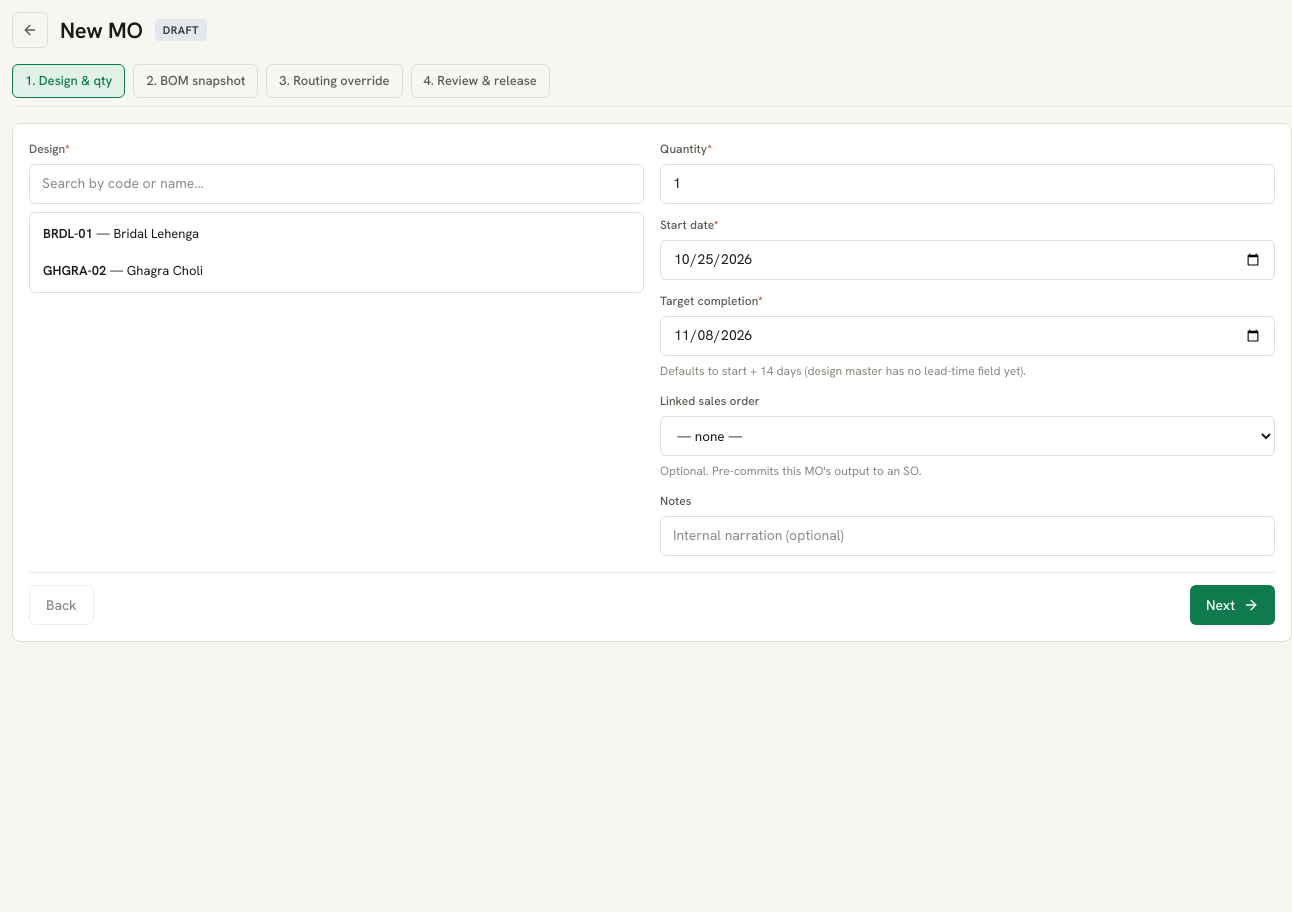
Test: MoCreateWizard — Section 2 (BOM snapshot) › shows the "Insufficient — Raise PR" link on red BOM lines
Click the option "BRDL-01 — Bridal Lehenga" at (68, 233), box [34,216,639,250]
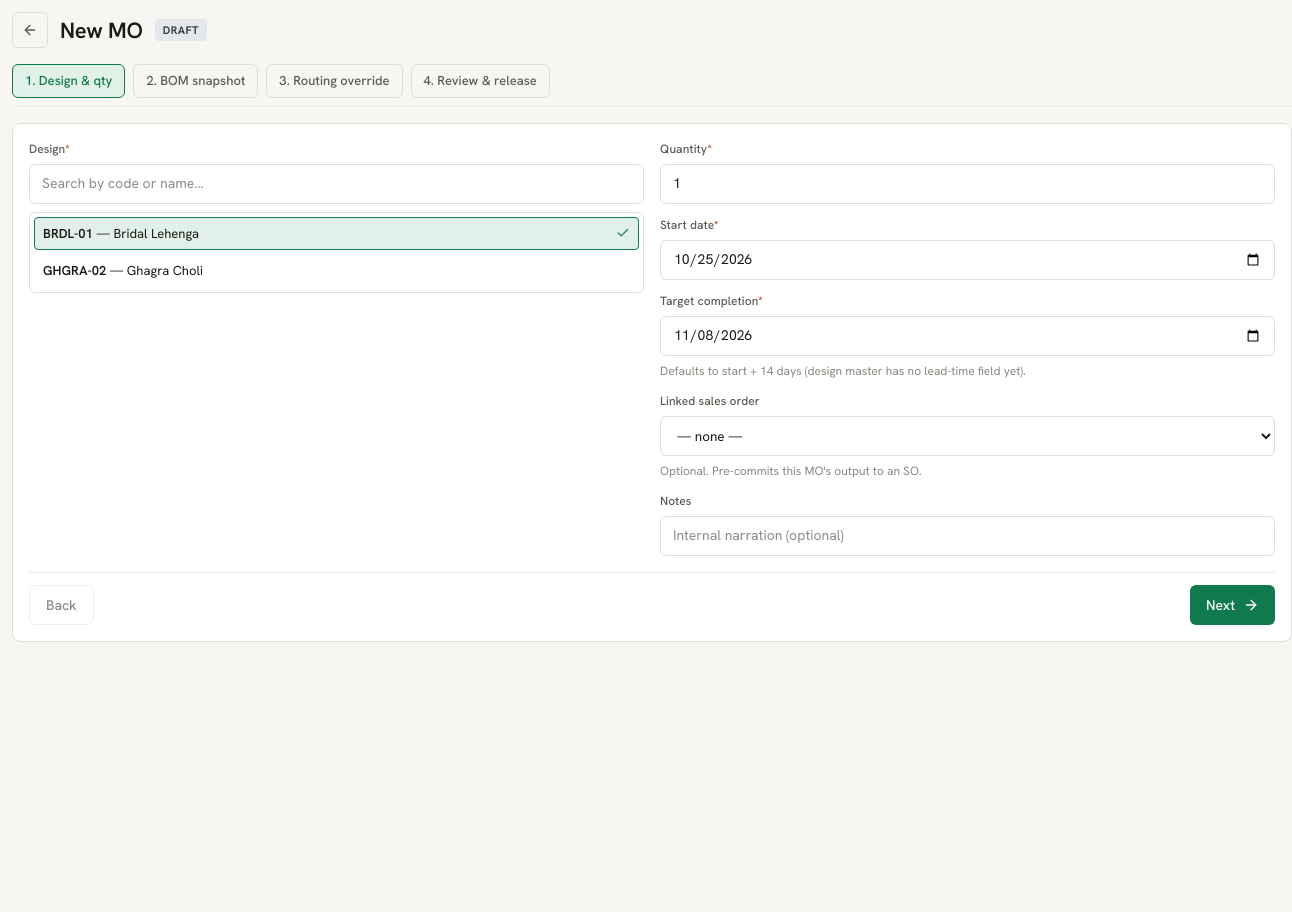
Click the tab "2. BOM snapshot" at (196, 81), box [133,64,258,98]
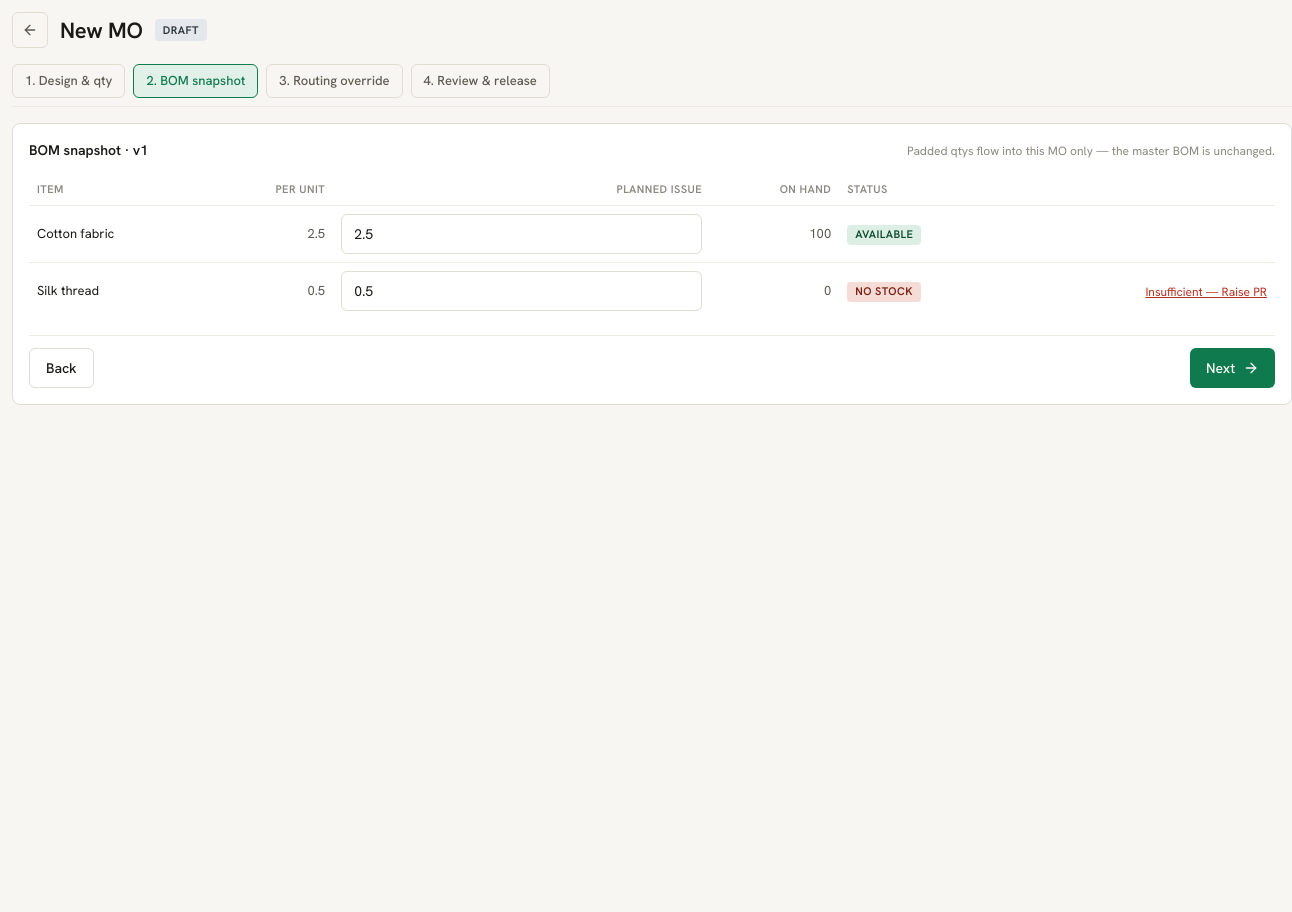
Expected: the link "Insufficient — Raise PR" is shown, [1145,284,1267,300]
